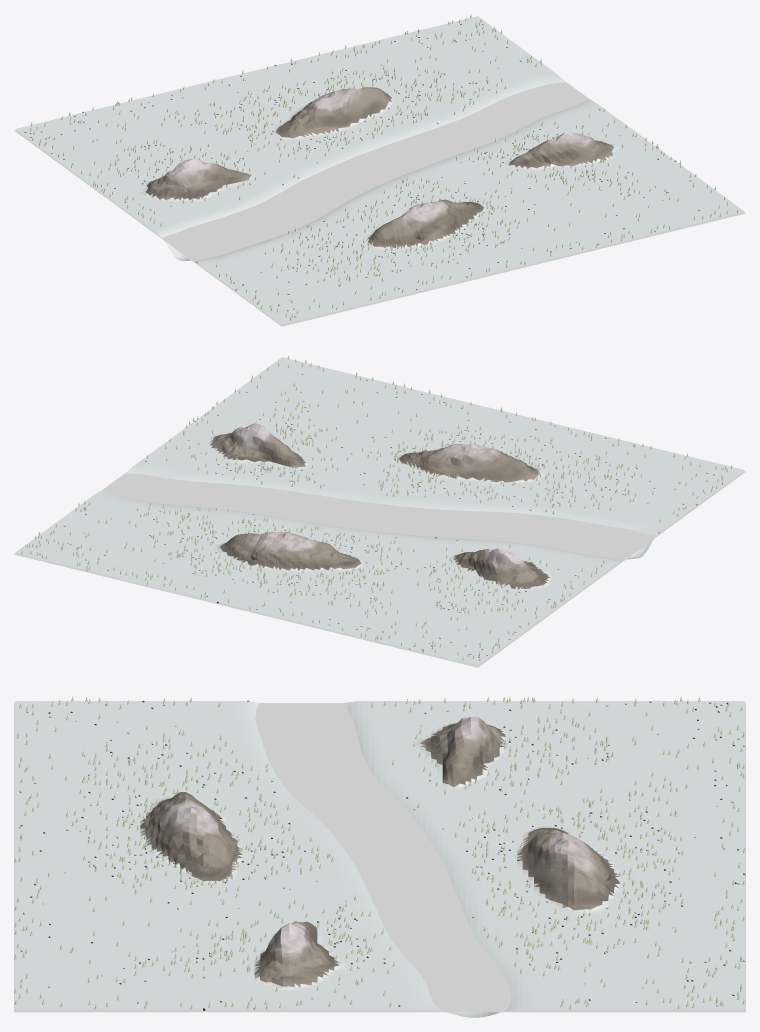
File: Map-Snowy15002.0.fbx
3 views of the same model, one above another, from view 1: azimuth 30°, elevation 25°; view 2: azimuth 150°, elevation 25°; view 3: azimuth 270°, elevation 25° (orthographic). The views are drawn at different scales.
Parts seen in each view (by area): view 1: Plane.001, Plane, Plane.002, Plane.003; view 2: Plane.001, Plane, Plane.002, Plane.003; view 3: Plane.001, Plane, Plane.002, Plane.003.
Part boxes in pixels (left/top/right/bottom): Plane.001: left=15, top=16, right=744, bottom=324; Plane: left=14, top=81, right=745, bottom=326; Plane.002: left=146, top=87, right=614, bottom=247; Plane.003: left=161, top=82, right=586, bottom=260; Plane.001: left=15, top=357, right=744, bottom=665; Plane: left=14, top=471, right=745, bottom=667; Plane.002: left=210, top=423, right=549, bottom=589; Plane.003: left=103, top=472, right=653, bottom=559; Plane.001: left=15, top=701, right=744, bottom=1011; Plane: left=14, top=703, right=745, bottom=1012; Plane.002: left=140, top=717, right=619, bottom=987; Plane.003: left=254, top=702, right=511, bottom=1017.
Bounding box in the file's own units: 80245 × 13163 × 80000.
